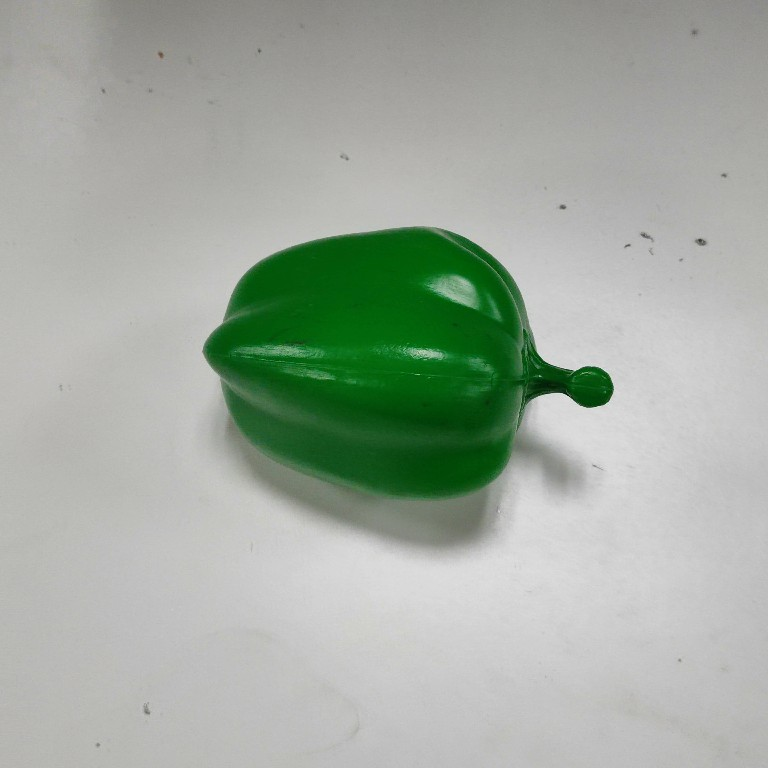fruit_pepper: (197, 222, 620, 505)
